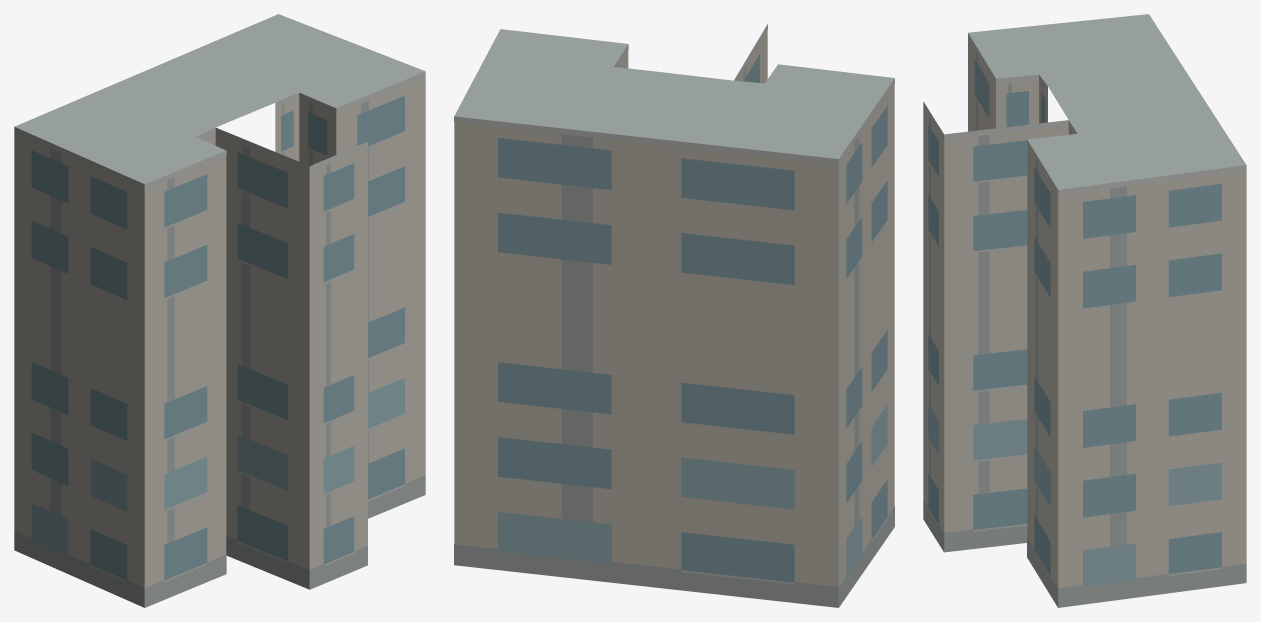
Rendered from survey-upis-32921441.glb.
3 views of the same model, side by side, from view 1: azimuth 30°, elevation 25°; view 2: azimuth 150°, elevation 25°; view 3: azimuth 270°, elevation 25° (orthographic). The views are drawn at different scales.
Visible parts, largest first — view 1: survey-upis-32921441.tmp; view 2: survey-upis-32921441.tmp; view 3: survey-upis-32921441.tmp.
Boxes of the visible parts, x1=… form: survey-upis-32921441.tmp: x1=14, y1=14, x2=425, y2=607; survey-upis-32921441.tmp: x1=454, y1=24, x2=894, y2=607; survey-upis-32921441.tmp: x1=923, y1=14, x2=1246, y2=607.
Bounding box in the file's own units: 16.53 × 18.3 × 12.83.
